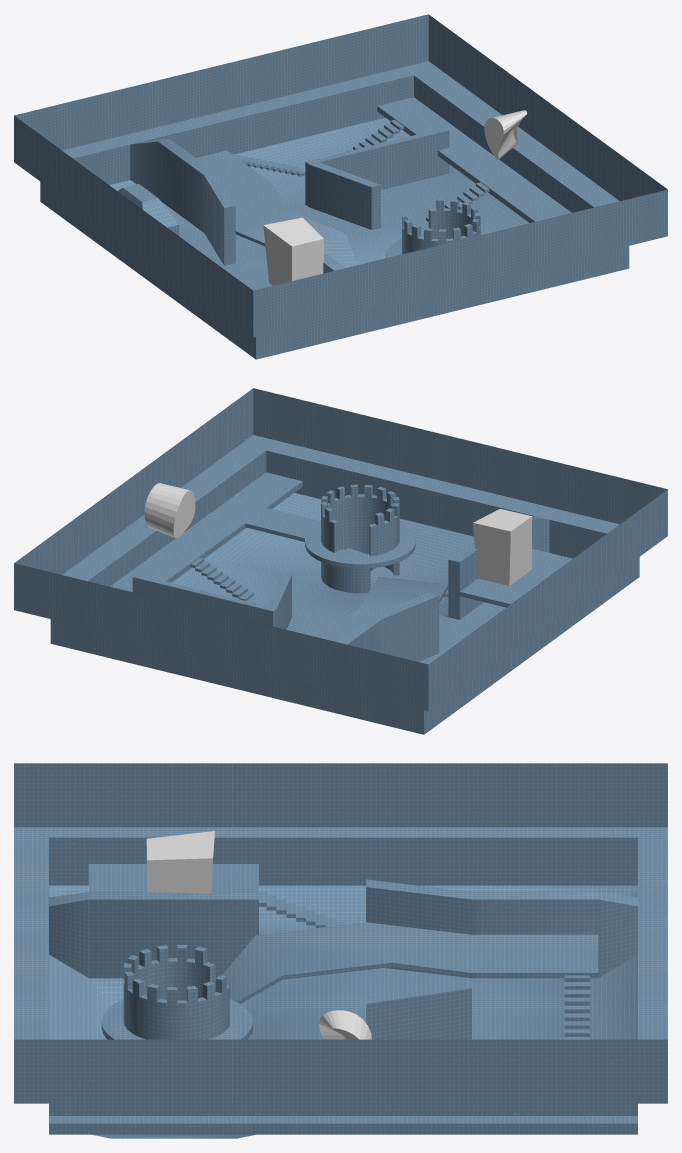
3 views of the same model, one above another, from view 1: azimuth 30°, elevation 25°; view 2: azimuth 150°, elevation 25°; view 3: azimuth 270°, elevation 25° (orthographic). The views are drawn at different scales.
Parts seen in each view (by area): view 1: Cube.004, Cube, Cylinder; view 2: Cube.004, Cube, Cylinder; view 3: Cube.004, Cube, Cylinder.
Boxes of the visible parts, x1,y1,x2,y2 form: Cube.004: (14, 14, 667, 359); Cube: (263, 217, 323, 285); Cylinder: (484, 110, 526, 159); Cube.004: (14, 388, 667, 734); Cube: (473, 509, 532, 585); Cylinder: (144, 483, 195, 538); Cube.004: (14, 763, 667, 1138); Cube: (146, 831, 214, 893); Cylinder: (319, 1010, 372, 1039).
Size of the model in its own units: 34.59 by 8.66 by 34.59.
Materials: 1 (1 with a texture image).
